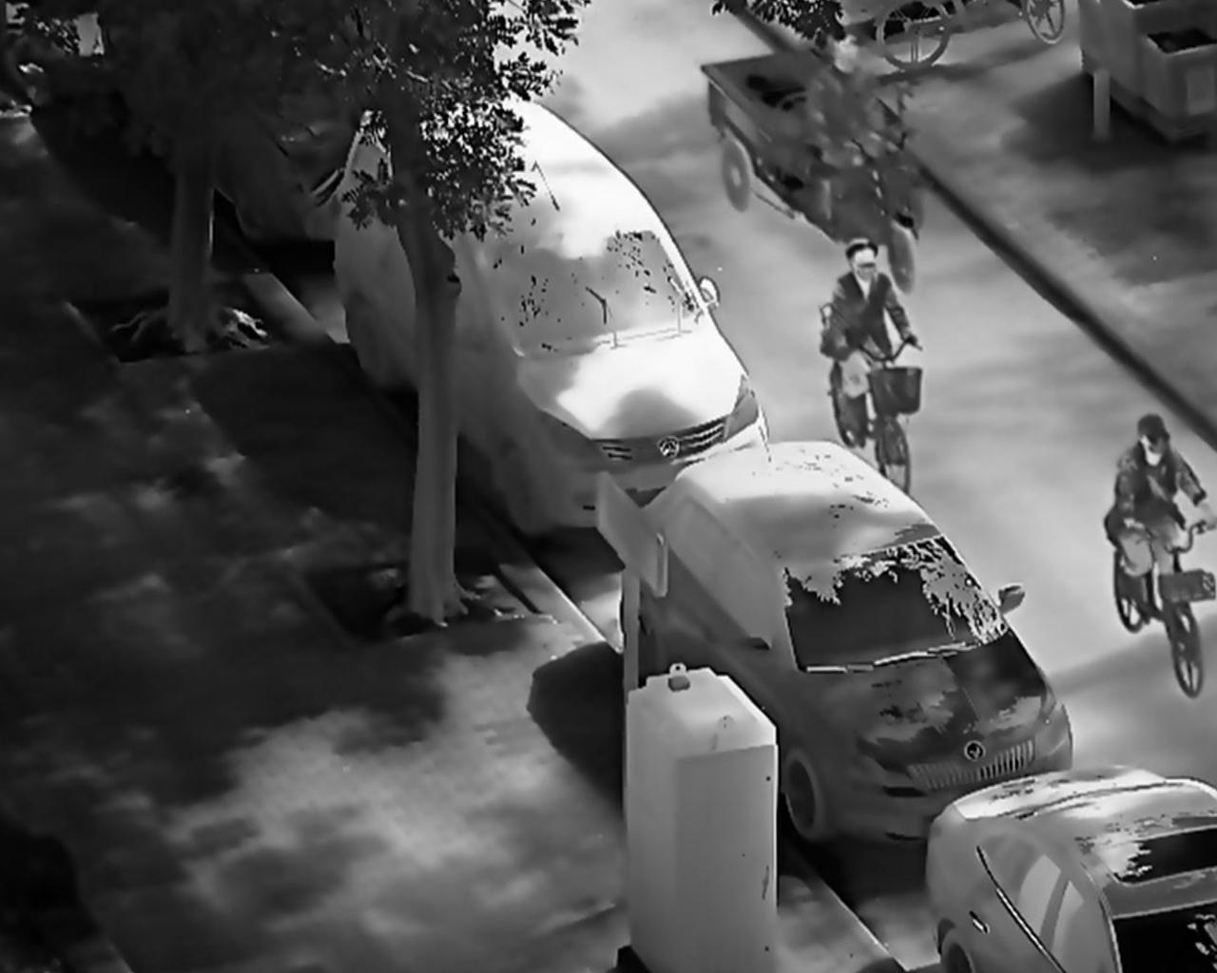person: (1101, 412, 1217, 616), (820, 238, 922, 447), (804, 30, 899, 185)
